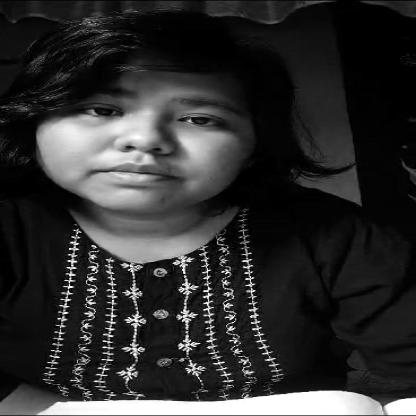Normal: (18, 34, 286, 216)
